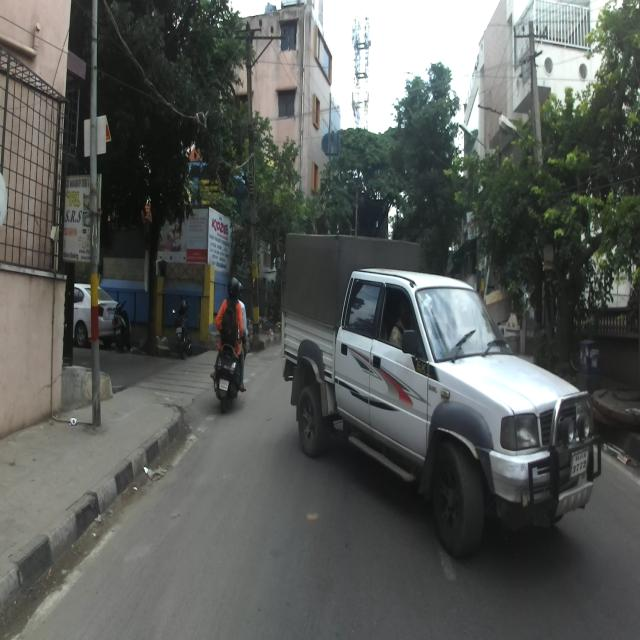electric pole ahead at: (79, 0, 114, 437)
motorcycle ahead at: (209, 332, 252, 408)
truck ahead at: (276, 222, 607, 557)
